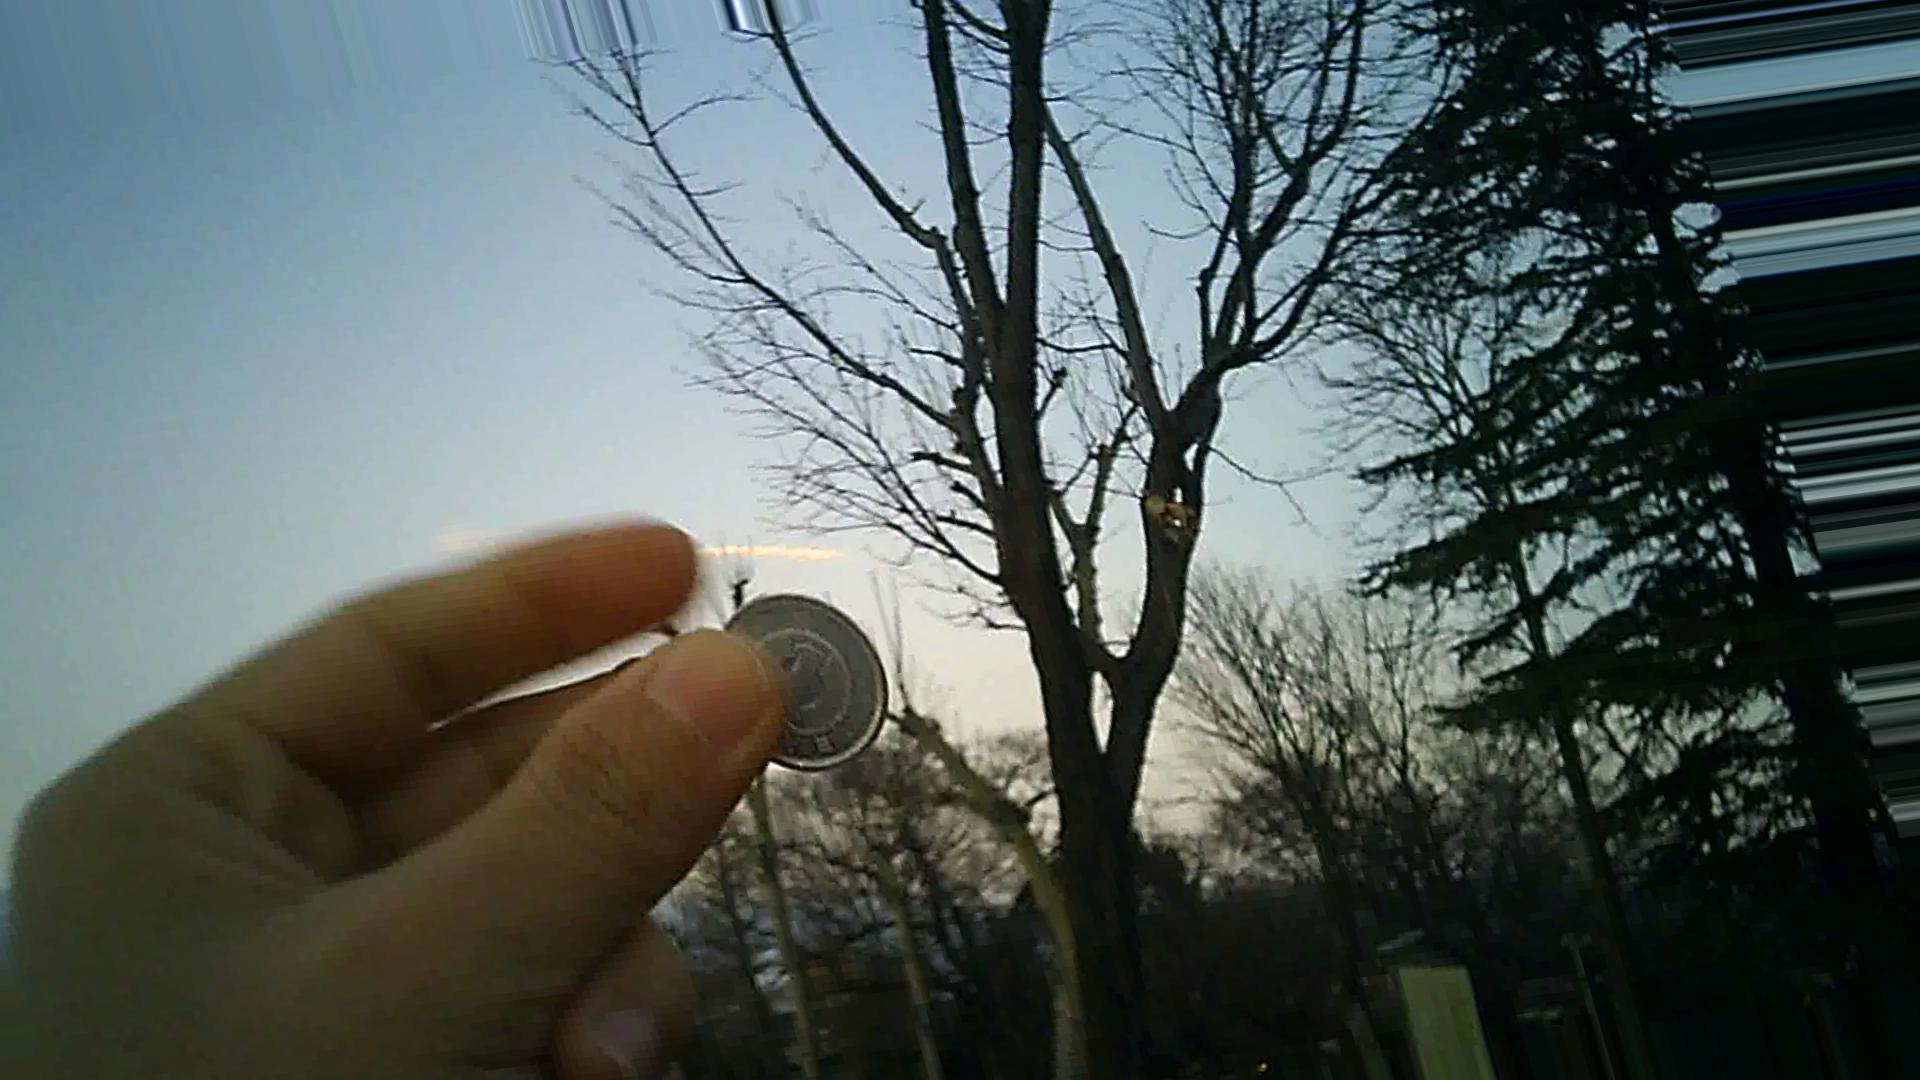1 Yen: (709, 574, 893, 781)
